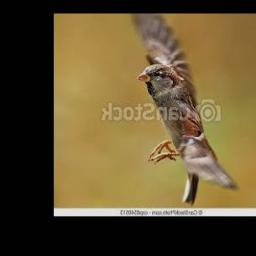Sparrow: (132, 13, 239, 205)
